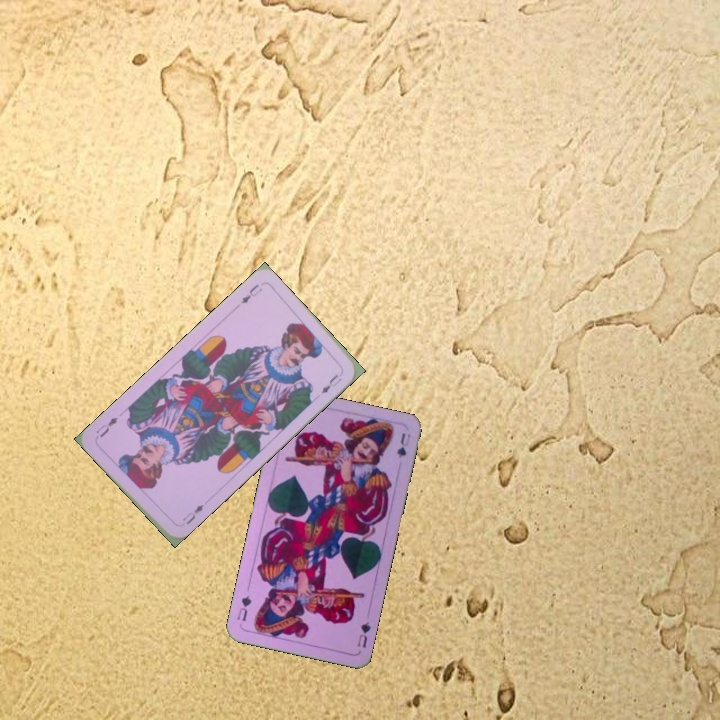EU: (179, 500, 206, 527), (237, 280, 265, 306)
GU: (353, 618, 373, 650)
